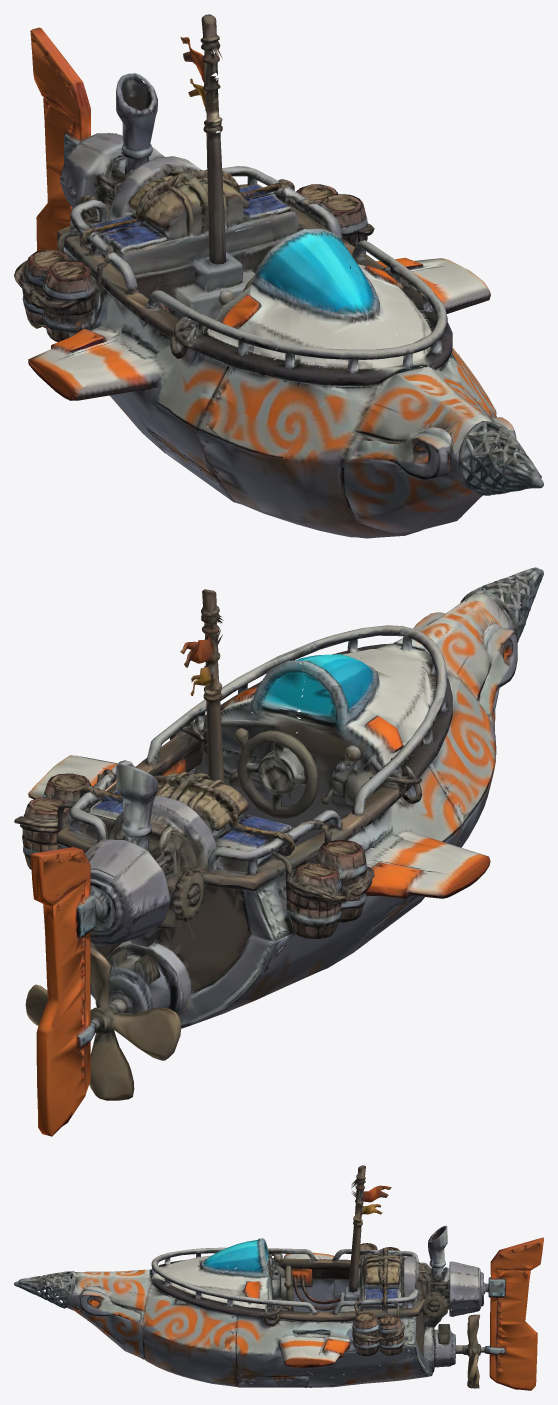
The model's file is boat.glb.
3 views of the same model, one above another, from view 1: azimuth 30°, elevation 25°; view 2: azimuth 150°, elevation 25°; view 3: azimuth 270°, elevation 25° (orthographic). The views are drawn at different scales.
Parts seen in each view (by area): view 1: hull_mesh, cargo_mesh, engine_mesh, rudder_mesh, mast_mesh; view 2: hull_mesh, engine_mesh, rudder_mesh, cargo_mesh, prop_mesh, nav_mesh, mast_mesh, flag0_mesh; view 3: hull_mesh, rudder_mesh, engine_mesh, cargo_mesh, mast_mesh, prop_mesh, nav_mesh, flag0_mesh.
Boxes of the visible parts, x1,y1,x2,y2 form: hull_mesh: [14, 168, 543, 538]; cargo_mesh: [68, 156, 298, 315]; engine_mesh: [60, 73, 247, 229]; rudder_mesh: [30, 27, 90, 328]; mast_mesh: [200, 14, 226, 264]; hull_mesh: [14, 567, 543, 1028]; engine_mesh: [56, 764, 255, 1014]; rudder_mesh: [30, 847, 103, 1136]; cargo_mesh: [67, 772, 298, 937]; prop_mesh: [25, 942, 181, 1100]; nav_mesh: [227, 728, 346, 818]; mast_mesh: [201, 589, 224, 782]; flag0_mesh: [180, 590, 213, 667]; hull_mesh: [14, 1238, 436, 1387]; rudder_mesh: [483, 1237, 543, 1390]; engine_mesh: [414, 1225, 483, 1373]; cargo_mesh: [349, 1249, 418, 1337]; mast_mesh: [348, 1165, 365, 1292]; prop_mesh: [455, 1314, 484, 1388]; nav_mesh: [273, 1265, 293, 1311]; flag0_mesh: [363, 1166, 391, 1201].
Size of the model in its own units: 5.58 by 5.51 by 11.76.
Materials: 1 (1 with a texture image).
